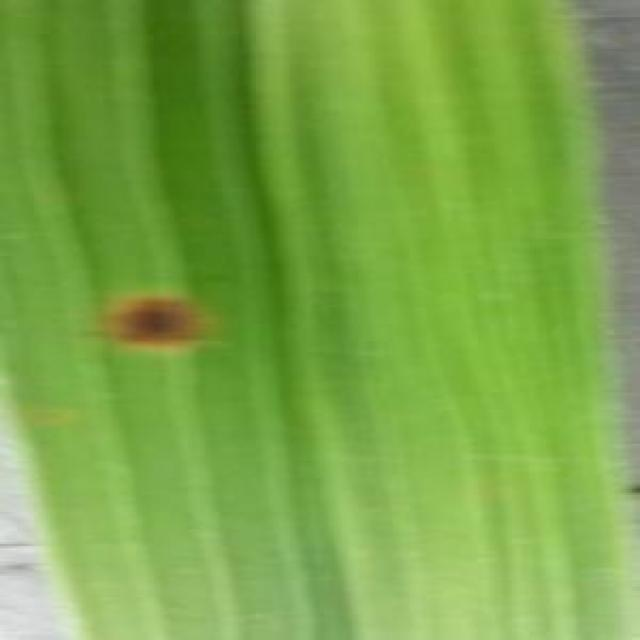brownspots: (102, 286, 212, 360)
